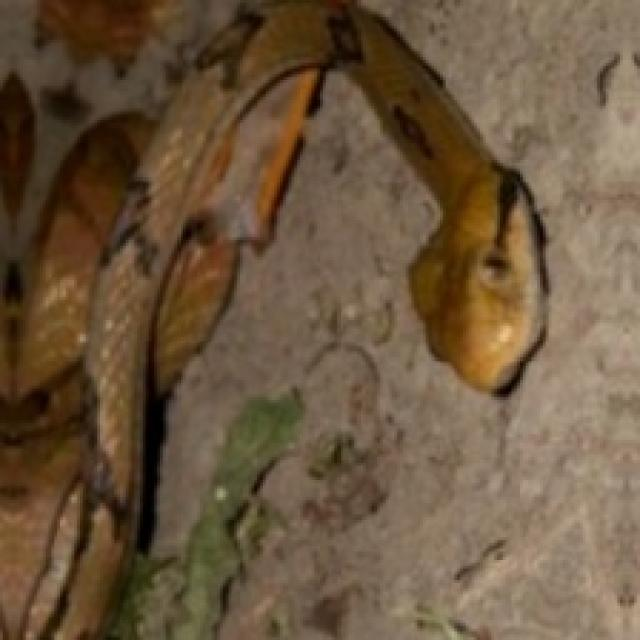dog-toothed cat snake: (0, 0, 546, 637)
